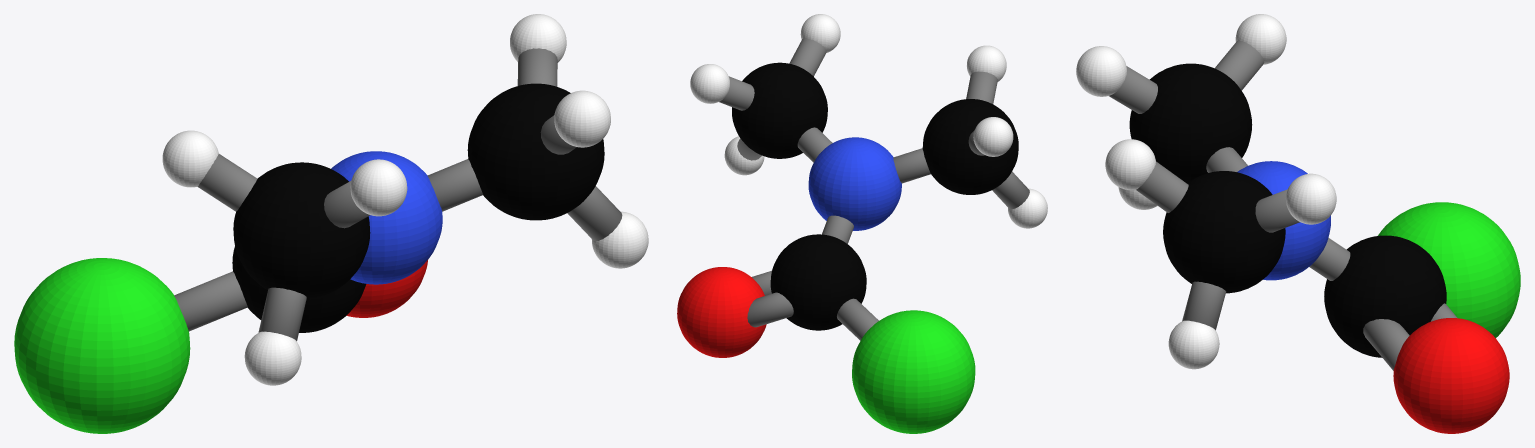
File: DIMETILCLOROFORMAMIDA.obj
3 views of the same model, side by side, from view 1: azimuth 30°, elevation 25°; view 2: azimuth 150°, elevation 25°; view 3: azimuth 270°, elevation 25° (orthographic). The views are drawn at different scales.
Parts seen in each view (by area): view 1: Carbon_ball_Sphere.003, Chlorine_ball_Sphere.004, Hydrogen_ball_Sphere, Nitrogen_ball_Sphere.002, Stick_Cylinder.008_Cylinder.008, Oxygen_ball_Sphere.001, Stick_Cylinder.003_Cylinder.003, Stick_Cylinder.009_Cylinder.009, Stick_Cylinder.006_Cylinder.006, Stick_Cylinder.007_Cylinder.007, Stick_Cylinder.001_Cylinder.001, Stick_Cylinder.010_Cylinder.010 (+1 smaller); view 2: Carbon_ball_Sphere.003, Chlorine_ball_Sphere.004, Nitrogen_ball_Sphere.002, Hydrogen_ball_Sphere, Oxygen_ball_Sphere.001, Stick_Cylinder.011_Cylinder.011, Stick_Cylinder.008_Cylinder.008, Stick_Cylinder.005_Cylinder.005, Stick_Cylinder_Cylinder, Stick_Cylinder.009_Cylinder.009, Stick_Cylinder.010_Cylinder.010, Stick_Cylinder.001_Cylinder.001 (+2 smaller); view 3: Carbon_ball_Sphere.003, Oxygen_ball_Sphere.001, Hydrogen_ball_Sphere, Chlorine_ball_Sphere.004, Nitrogen_ball_Sphere.002, Stick_Cylinder.007_Cylinder.007, Stick_Cylinder_Cylinder, Stick_Cylinder.002_Cylinder.002, Stick_Cylinder.003_Cylinder.003, Stick_Cylinder.010_Cylinder.010, Stick_Cylinder.001_Cylinder.001, Stick_Cylinder.004_Cylinder.004 (+1 smaller).
Part boxes in pixels (bbox=[...]): Carbon_ball_Sphere.003: bbox=[232, 83, 604, 332]; Chlorine_ball_Sphere.004: bbox=[14, 258, 190, 433]; Hydrogen_ball_Sphere: bbox=[162, 14, 648, 385]; Nitrogen_ball_Sphere.002: bbox=[331, 151, 442, 284]; Stick_Cylinder.008_Cylinder.008: bbox=[174, 271, 247, 331]; Oxygen_ball_Sphere.001: bbox=[346, 259, 428, 317]; Stick_Cylinder.003_Cylinder.003: bbox=[197, 154, 257, 211]; Stick_Cylinder.009_Cylinder.009: bbox=[258, 287, 306, 340]; Stick_Cylinder.006_Cylinder.006: bbox=[427, 159, 482, 211]; Stick_Cylinder.007_Cylinder.007: bbox=[567, 186, 622, 241]; Stick_Cylinder.001_Cylinder.001: bbox=[517, 48, 557, 86]; Stick_Cylinder.010_Cylinder.010: bbox=[324, 181, 370, 228]; Carbon_ball_Sphere.003: bbox=[732, 62, 1018, 330]; Chlorine_ball_Sphere.004: bbox=[852, 310, 975, 433]; Nitrogen_ball_Sphere.002: bbox=[808, 137, 901, 230]; Hydrogen_ball_Sphere: bbox=[690, 14, 1047, 228]; Oxygen_ball_Sphere.001: bbox=[677, 267, 766, 357]; Stick_Cylinder.011_Cylinder.011: bbox=[747, 292, 793, 327]; Stick_Cylinder.008_Cylinder.008: bbox=[837, 298, 878, 340]; Stick_Cylinder.005_Cylinder.005: bbox=[893, 148, 930, 183]; Stick_Cylinder_Cylinder: bbox=[789, 38, 826, 76]; Stick_Cylinder.009_Cylinder.009: bbox=[992, 171, 1029, 209]; Stick_Cylinder.010_Cylinder.010: bbox=[966, 71, 997, 103]; Stick_Cylinder.001_Cylinder.001: bbox=[719, 76, 754, 110]; Carbon_ball_Sphere.003: bbox=[1129, 63, 1446, 357]; Oxygen_ball_Sphere.001: bbox=[1393, 318, 1509, 433]; Hydrogen_ball_Sphere: bbox=[1076, 14, 1336, 369]; Chlorine_ball_Sphere.004: bbox=[1378, 202, 1520, 337]; Nitrogen_ball_Sphere.002: bbox=[1237, 161, 1330, 280]; Stick_Cylinder.007_Cylinder.007: bbox=[1182, 281, 1226, 330]; Stick_Cylinder_Cylinder: bbox=[1136, 161, 1188, 212]; Stick_Cylinder.002_Cylinder.002: bbox=[1363, 319, 1409, 370]; Stick_Cylinder.003_Cylinder.003: bbox=[1215, 40, 1264, 90]; Stick_Cylinder.010_Cylinder.010: bbox=[1109, 66, 1157, 113]; Stick_Cylinder.001_Cylinder.001: bbox=[1255, 189, 1299, 232]; Stick_Cylinder.004_Cylinder.004: bbox=[1309, 238, 1350, 280].
Bounding box in the file's own units: 5.61 × 4.3 × 5.03.
